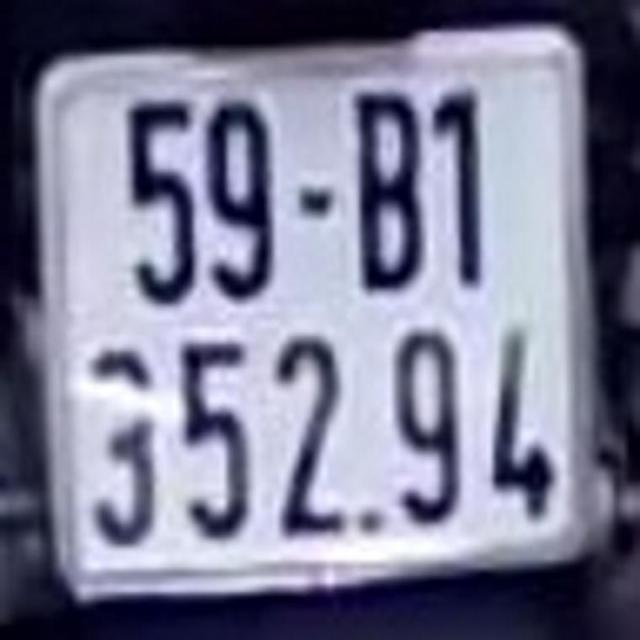1: (432, 77, 484, 286)
2: (275, 324, 345, 532)
3: (86, 346, 157, 549)
4: (486, 322, 557, 521)
5: (122, 98, 201, 306), (178, 332, 248, 538)
9: (391, 328, 464, 522), (209, 102, 274, 300)
B: (357, 82, 423, 288)
